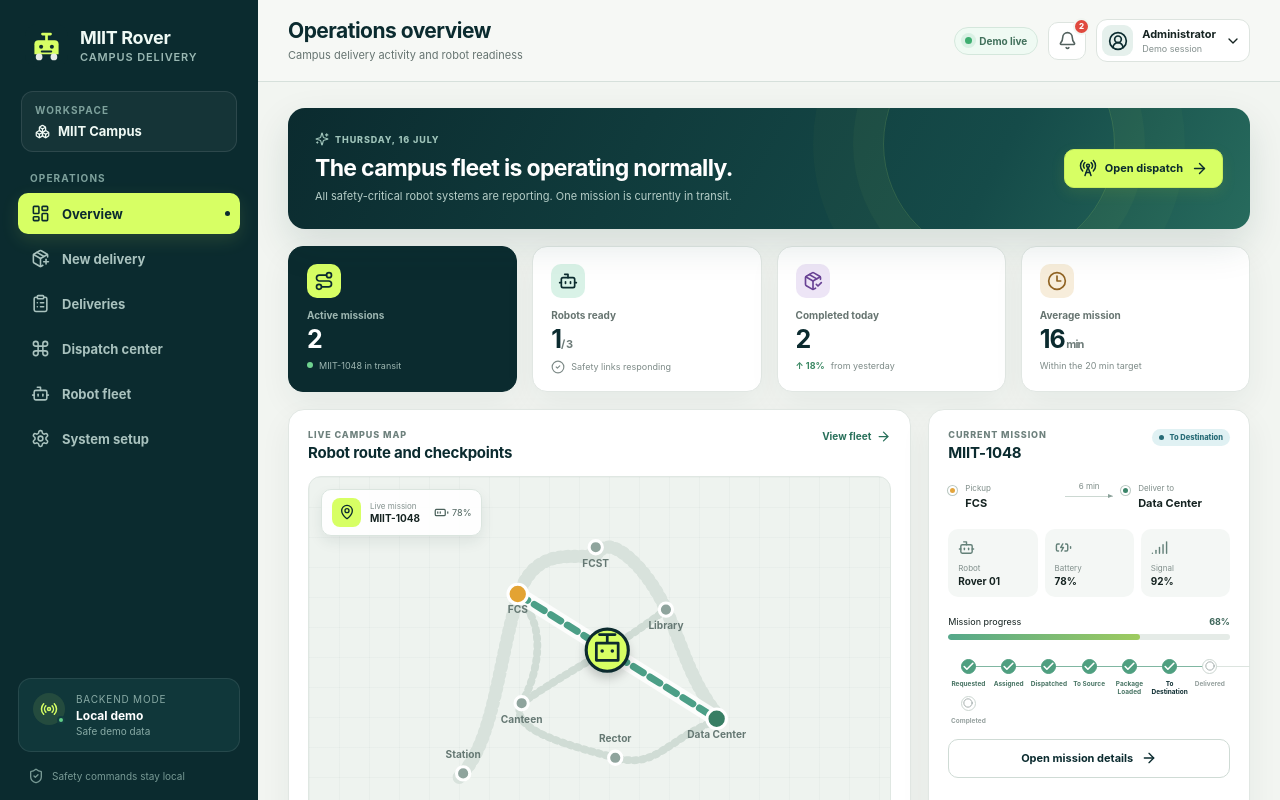
Test: MIIT Rover delivery workflows › requires confirmation before an emergency stop
The width and height of the screenshot is (1280, 800).
Click the link "Robot fleet" at (81, 394), box [31,384,131,403]
(page scrolled)
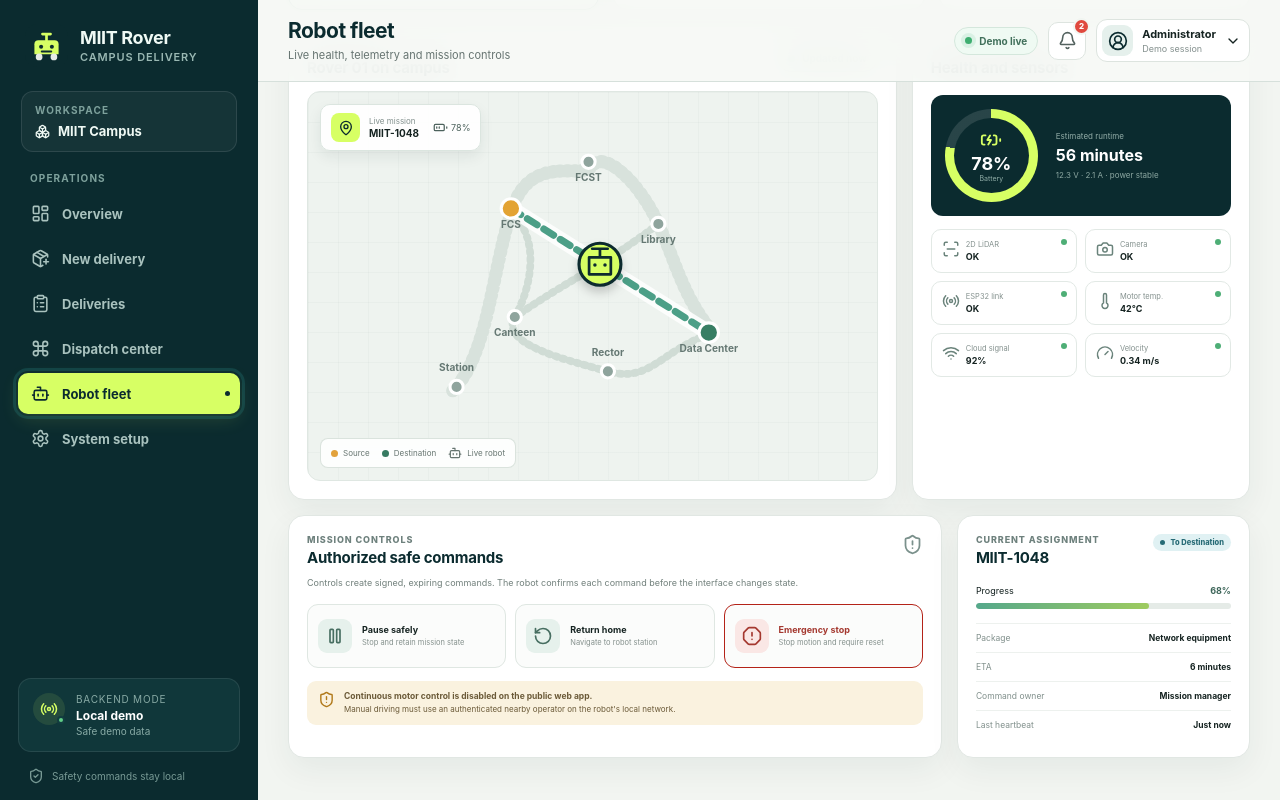
Click the text "Emergency stop" at (814, 630), box [779,624,850,635]
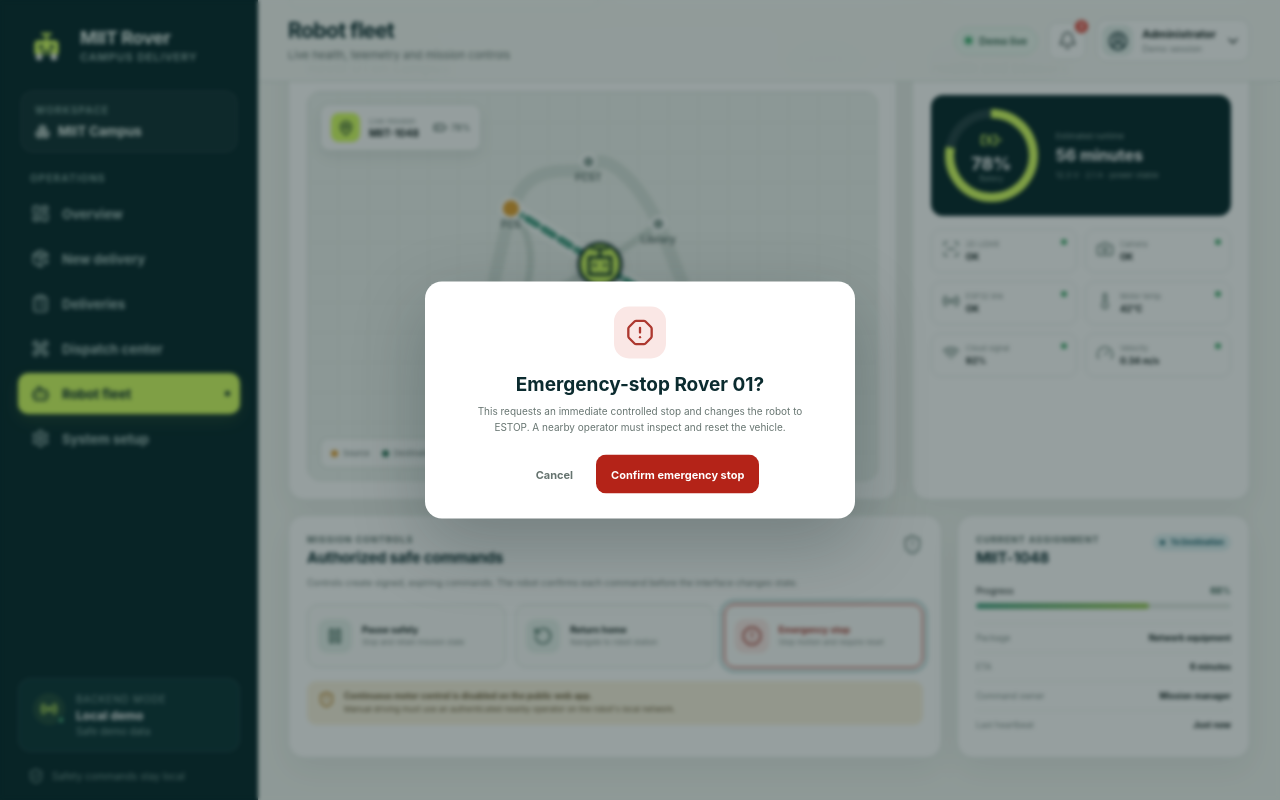
Check: the heading "Emergency-stop Rover 01?" is shown, box [516,372,764,396]
Click the button "Confirm emergency stop" at (678, 474), box [596,454,759,494]
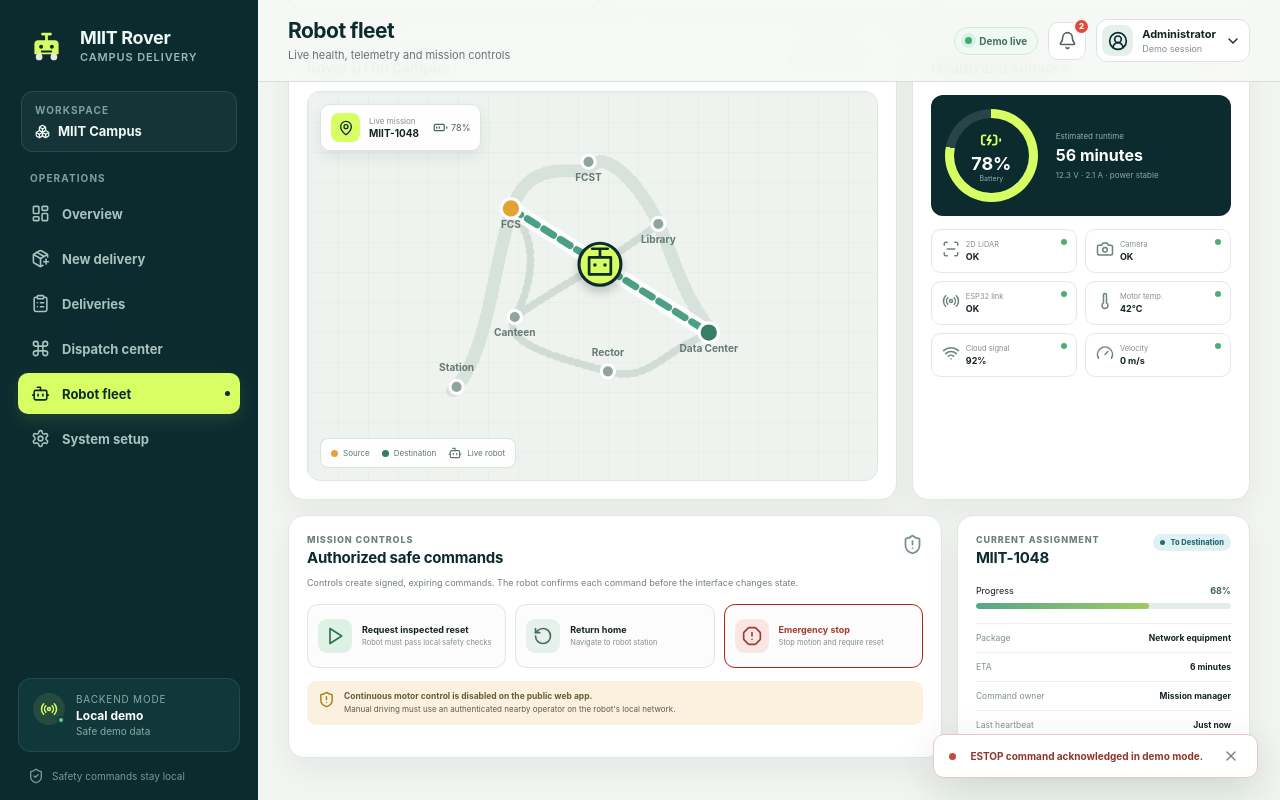
Click the text "Request inspected reset" at (415, 630), box [362,624,469,635]
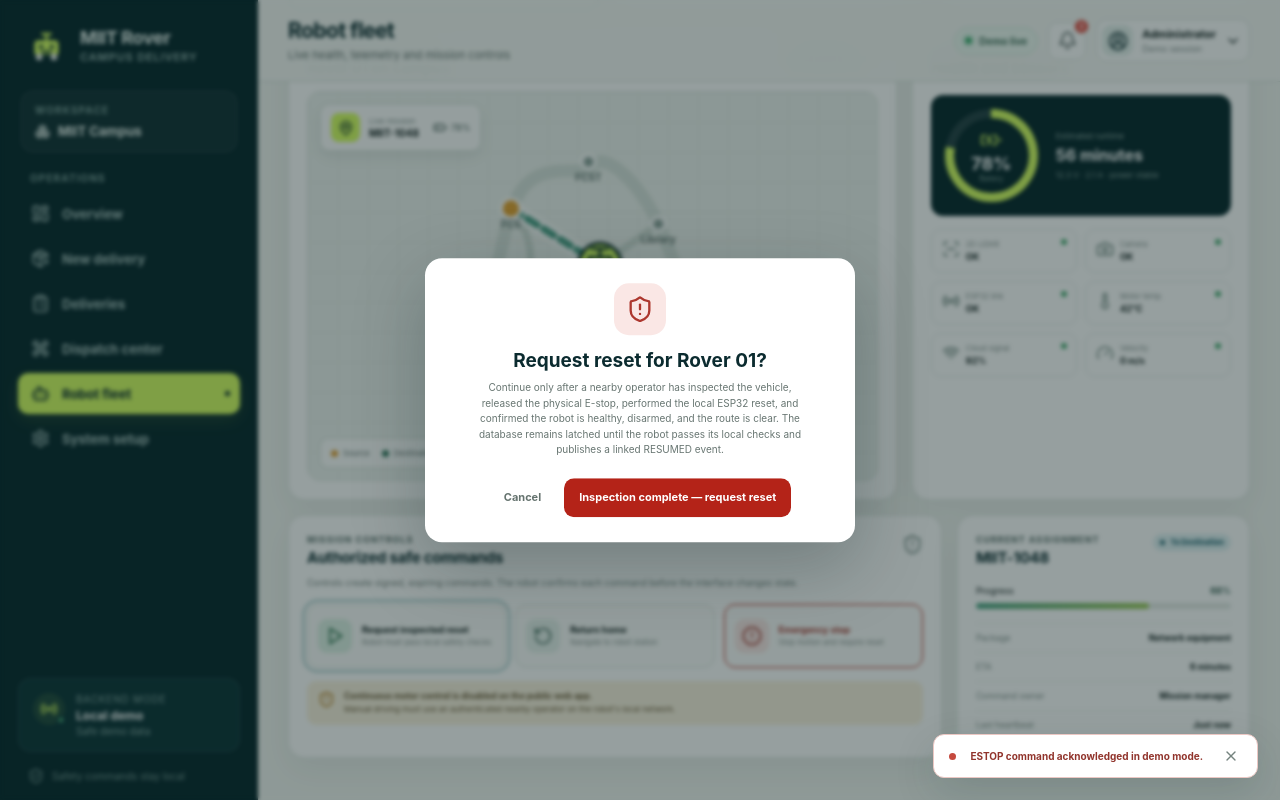
Check: the heading "Request reset for Rover 01?" is shown, box [513,349,767,372]
Check: the button "Inspection complete — request reset" is shown, box [564,478,791,517]
